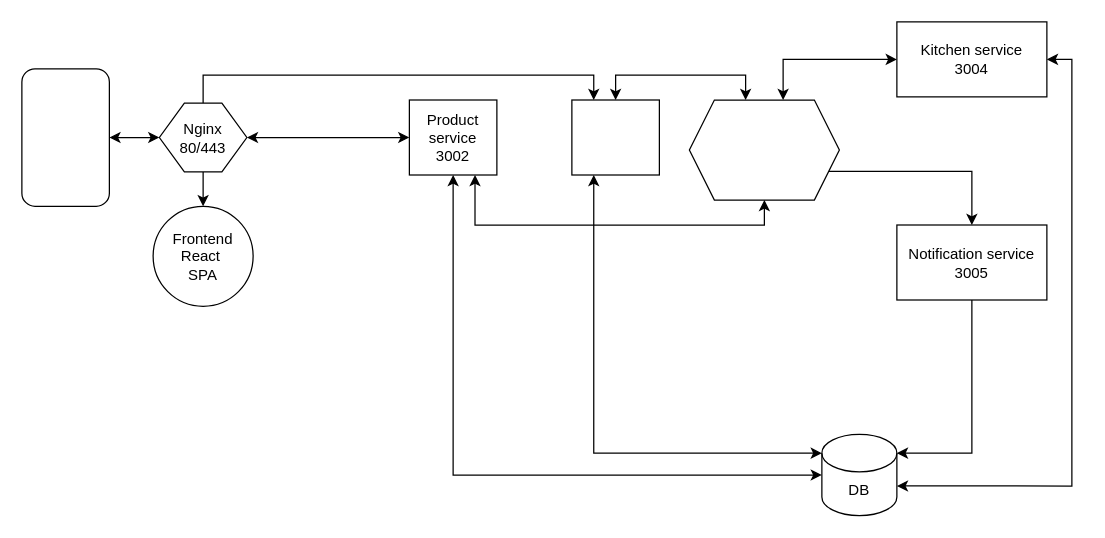
Image size: 1105x538. Some labels were removed from this diagram. Each missing label, with the box of its shape:
Client: (21, 68, 109, 206)
Order service 3003: (571, 99, 659, 175)
Rabbit MQ exchange: (688, 99, 839, 200)
